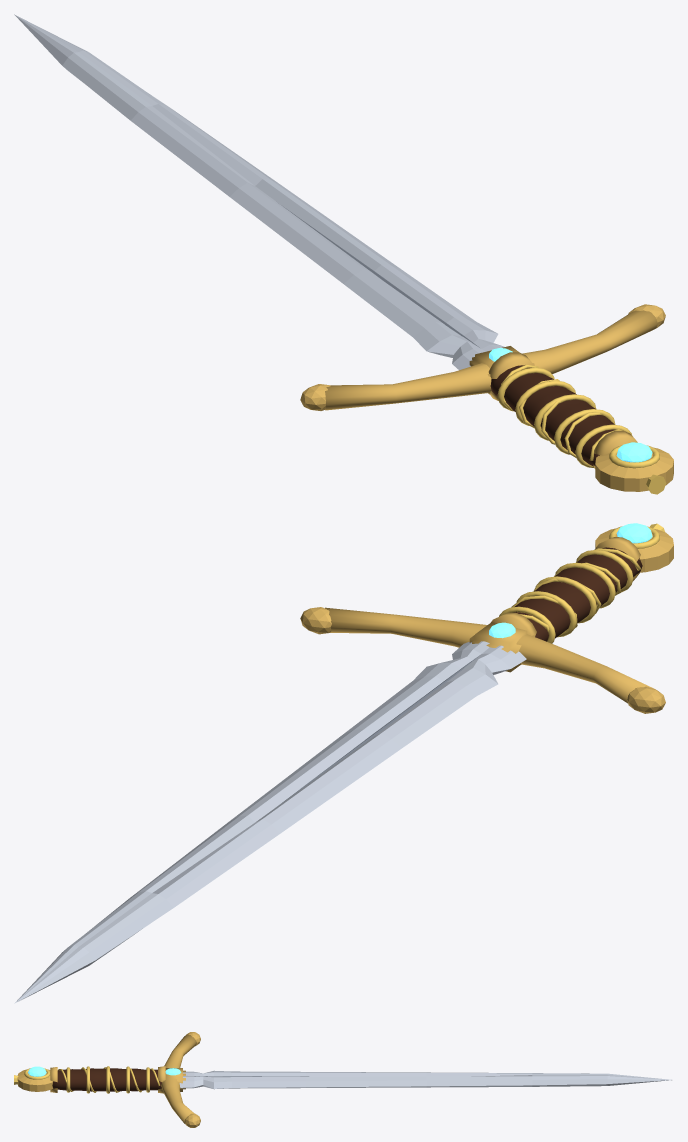
The model's file is sword_oath.glb.
3 renders of one model, top to bottom at view 1: azimuth 30°, elevation 25°; view 2: azimuth 150°, elevation 25°; view 3: azimuth 270°, elevation 25°, orthographic. The views are drawn at different scales.
Parts seen in each view (by area): view 1: Blade, GuardCross, GripCore, PommelBody, GripWireWrap; view 2: Blade, GuardCross, GripCore, PommelBody, GripWireWrap, GuardEcusson, GuardFinial_L; view 3: Blade, GripCore, GuardCross, PommelBody, GripWireWrap, GuardFinial_R, GuardEcusson.
Part boxes in pixels (box(x1,y1,x2,y2)): Blade: box(14, 14, 504, 370); GuardCross: box(325, 310, 657, 410); GripCore: box(490, 365, 615, 466); PommelBody: box(595, 447, 673, 491); GripWireWrap: box(500, 365, 629, 460); Blade: box(14, 641, 526, 1003); GuardCross: box(325, 607, 655, 703); GripCore: box(513, 547, 642, 641); PommelBody: box(595, 528, 673, 572); GripWireWrap: box(511, 548, 640, 632); GuardEcusson: box(469, 622, 534, 672); GuardFinial_L: box(627, 686, 665, 713); Blade: box(179, 1070, 671, 1089); GripCore: box(52, 1068, 161, 1091); GuardCross: box(161, 1034, 196, 1124); PommelBody: box(17, 1069, 52, 1091); GripWireWrap: box(58, 1067, 160, 1092); GuardFinial_R: box(184, 1113, 200, 1127); GuardEcusson: box(163, 1068, 185, 1091).
Bounding box in the file's own units: 0.2832 × 0.037 × 0.875.
